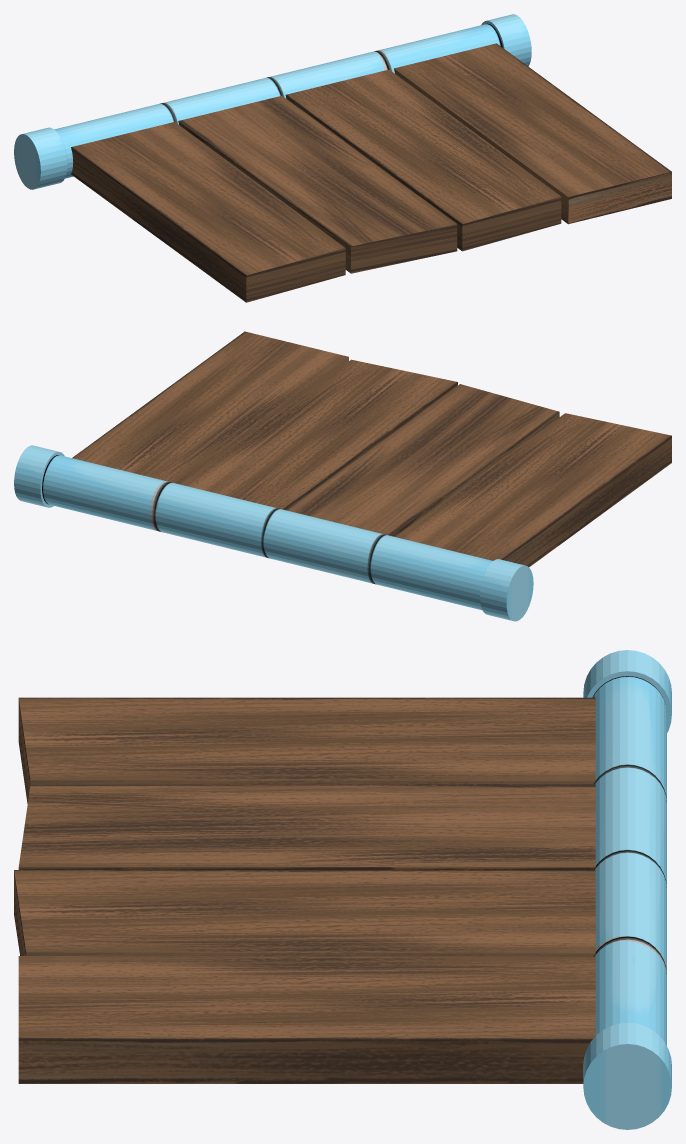
Rendered from fold-platform.fbx.
3 renders of one model, top to bottom at view 1: azimuth 30°, elevation 25°; view 2: azimuth 150°, elevation 25°; view 3: azimuth 270°, elevation 25°, orthographic. The views are drawn at different scales.
Visible parts, largest first — view 1: Cylinder, Cylinder.002, Cylinder.001; view 2: Cylinder, Cylinder.002, Cylinder.001; view 3: Cylinder, Cylinder.001, Cylinder.002.
Part boxes in pixels (x1,y1,x2,y2): Cylinder: [54, 23, 671, 302]; Cylinder.002: [14, 127, 67, 189]; Cylinder.001: [481, 14, 531, 66]; Cylinder: [42, 331, 671, 610]; Cylinder.002: [480, 559, 533, 621]; Cylinder.001: [14, 445, 64, 507]; Cylinder: [14, 676, 666, 1083]; Cylinder.001: [583, 1022, 671, 1129]; Cylinder.002: [583, 650, 671, 732].
Bounding box in the file's own units: 945 × 96.28 × 667.
Materials: 2 (2 with a texture image).
